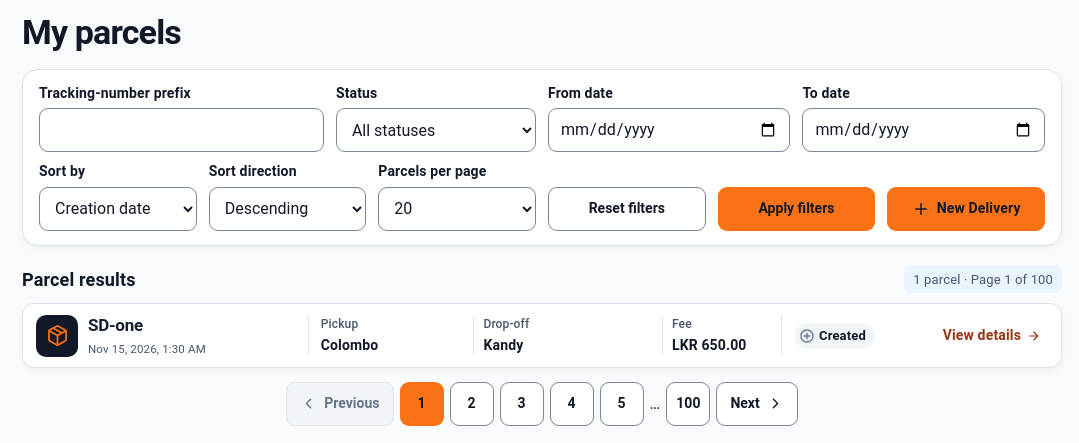
Test case: TST-040 my parcels › jumps to a numbered server page and keeps a bounded set of page buttons
The image size is (1079, 443).
Step 1. Click the button named "Page 100" → (688, 404), box left=666, top=382, right=710, bottom=426
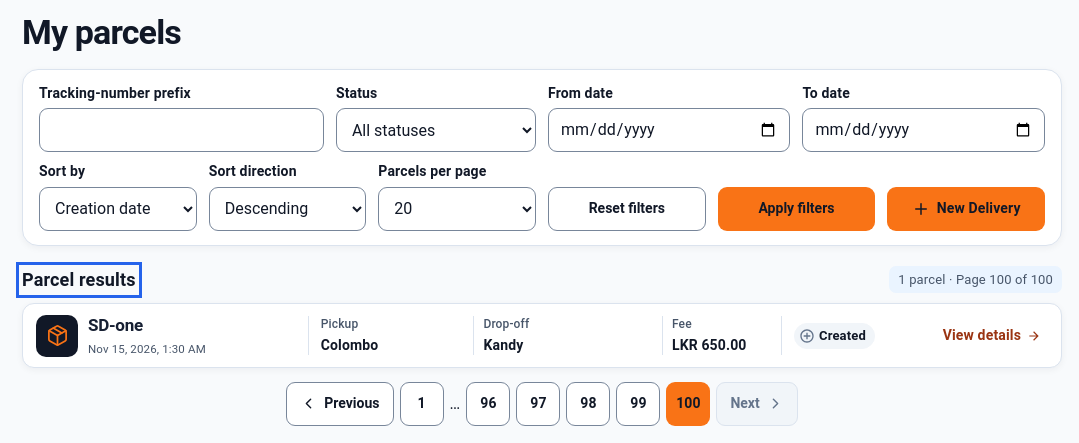
Check: the number of buttons "1" is 6, box left=400, top=382, right=444, bottom=426; left=466, top=382, right=510, bottom=426; left=516, top=382, right=560, bottom=426; left=566, top=382, right=610, bottom=426; left=616, top=382, right=660, bottom=426; left=666, top=382, right=710, bottom=426
Check: the button with aria-label "Next page" is disabled, box left=716, top=382, right=798, bottom=426
